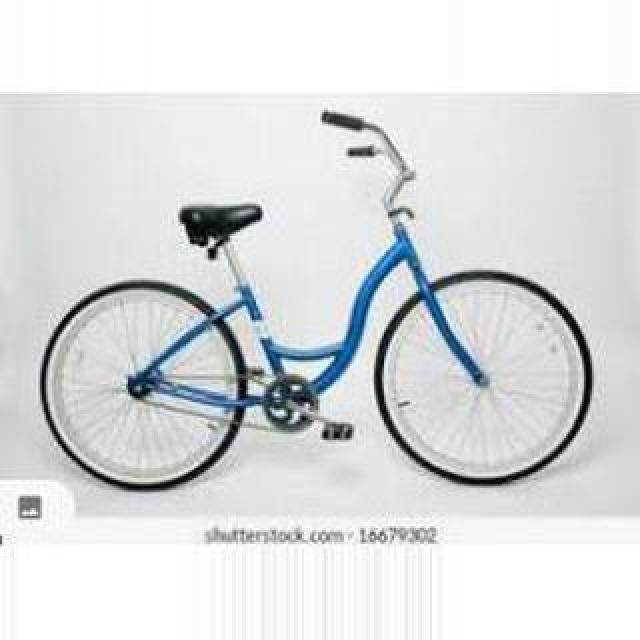Person: (32, 106, 602, 496)
